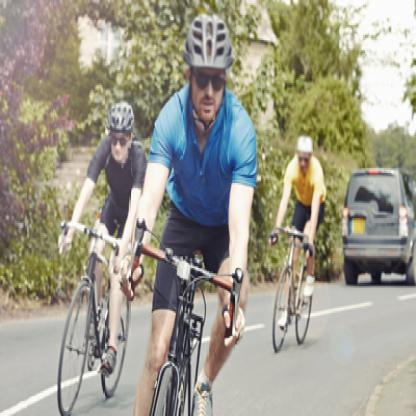Helmet: (180, 17, 240, 125), (105, 95, 138, 168), (296, 131, 316, 180)
